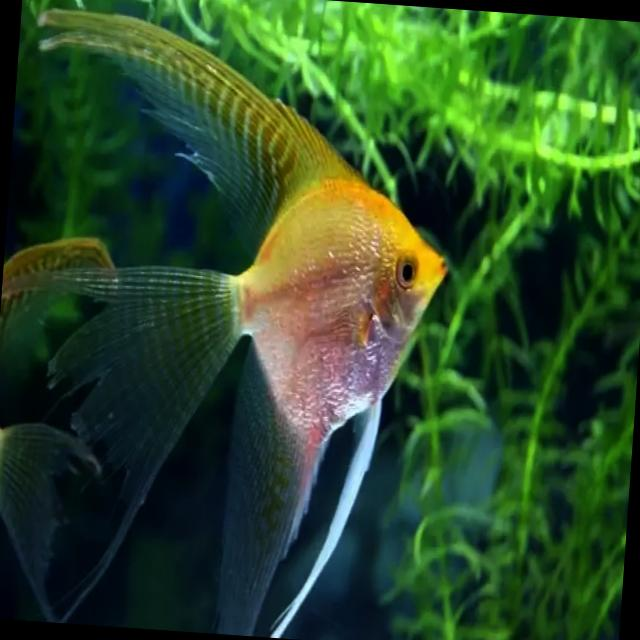AngelFish: (1, 7, 467, 640)
